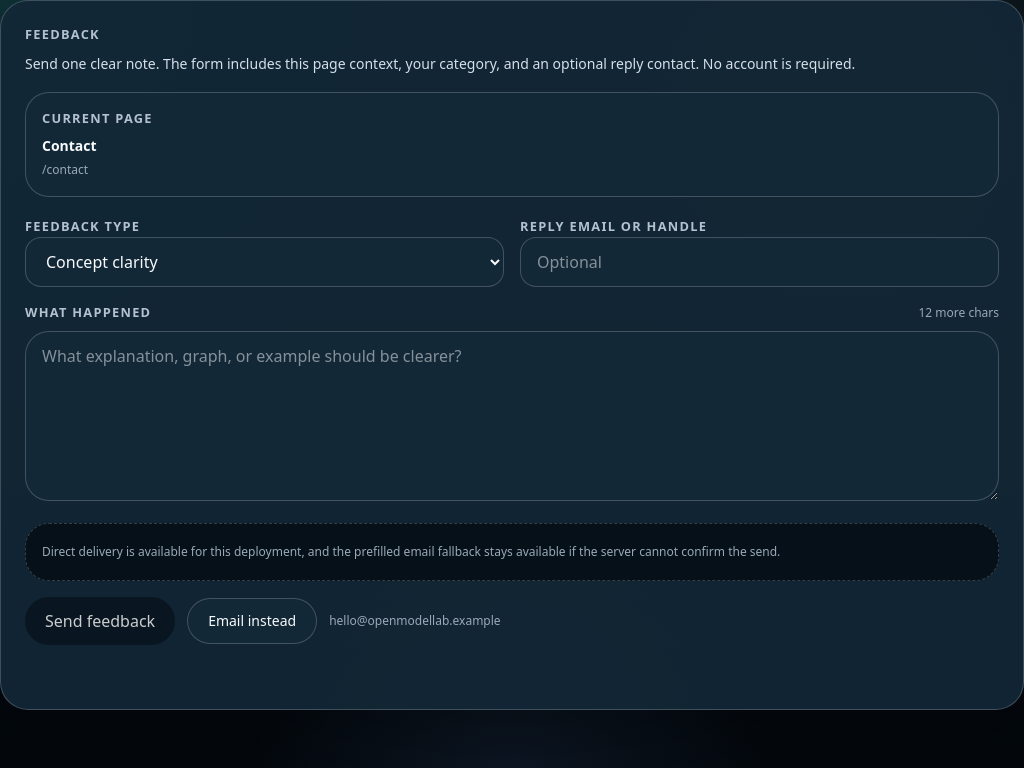
it: ContactForm › posts structured feedback and shows a delivery confirmation
The image size is (1024, 768).
Type "ada@example.com" into the field labelled "Reply email or handle" at (760, 262), box top-left (520, 237), bottom-right (999, 287)
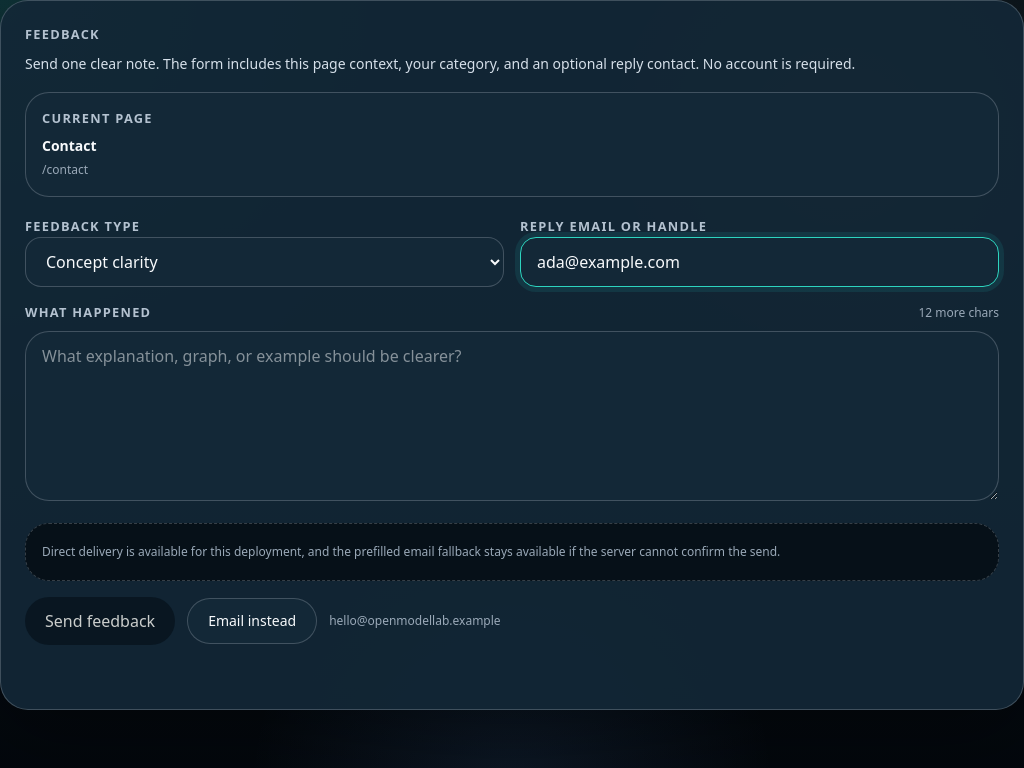
Type "The damping controls felt hard to read when I switched presets." into the text box labelled "What happened 12 more chars" at (512, 416), box top-left (25, 331), bottom-right (999, 501)
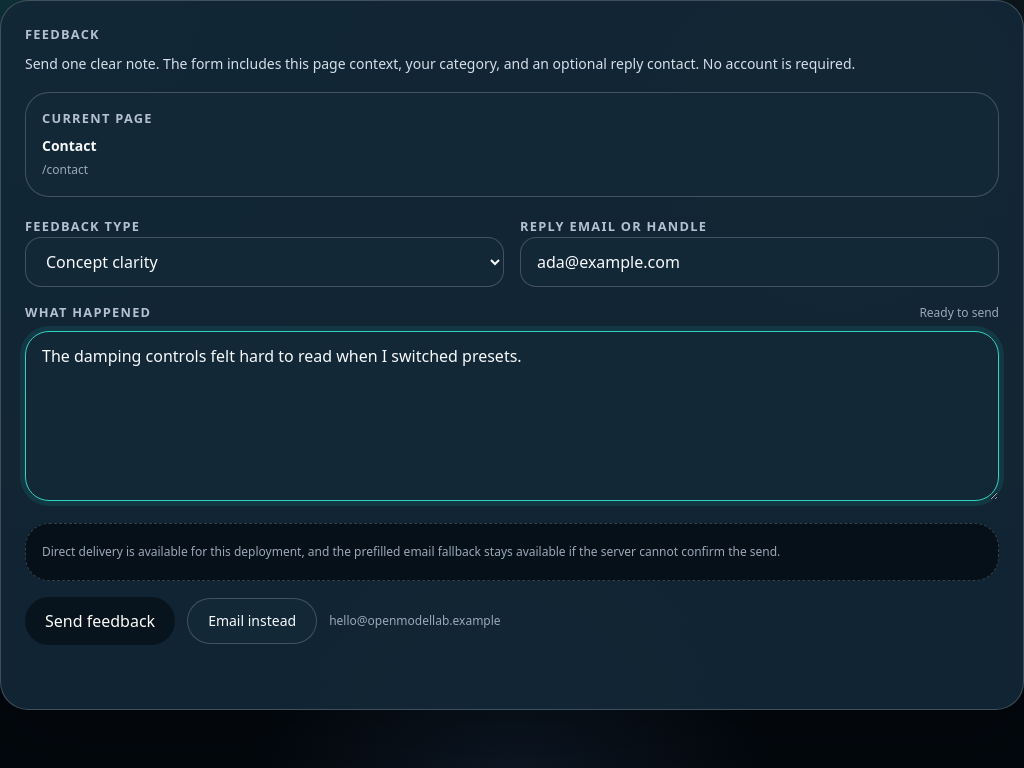
Click the button "Send feedback" at (100, 621), box top-left (25, 597), bottom-right (175, 645)
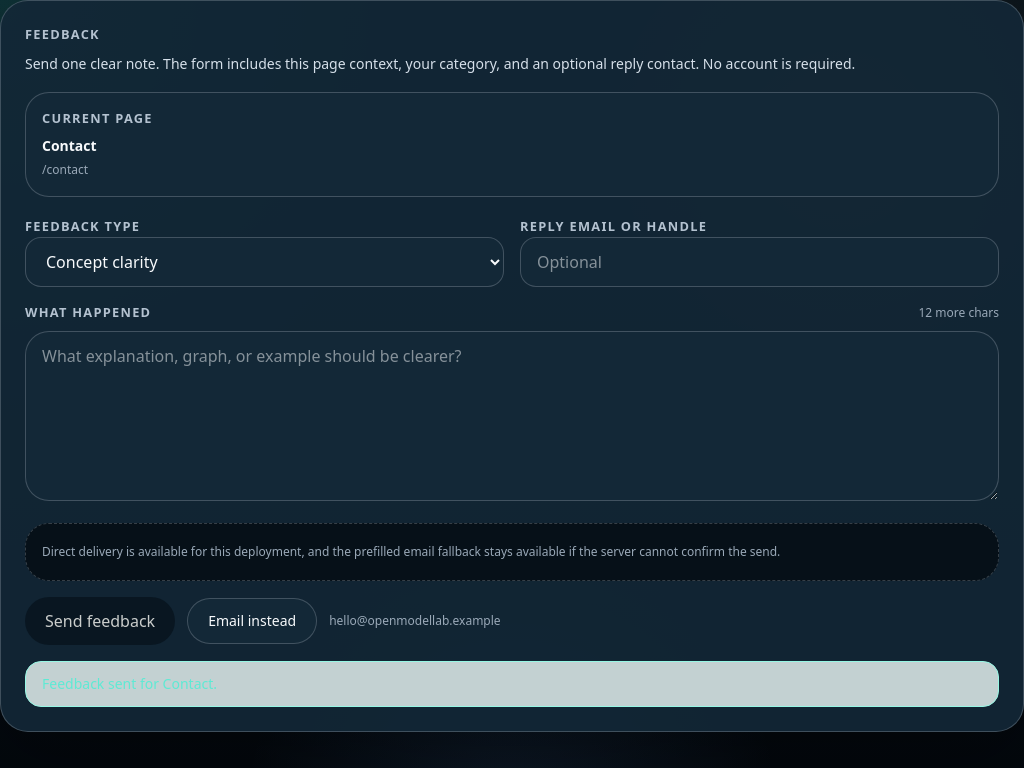
Result: the text "Feedback sent for Contact." is shown at top-left (25, 661), bottom-right (999, 707)
